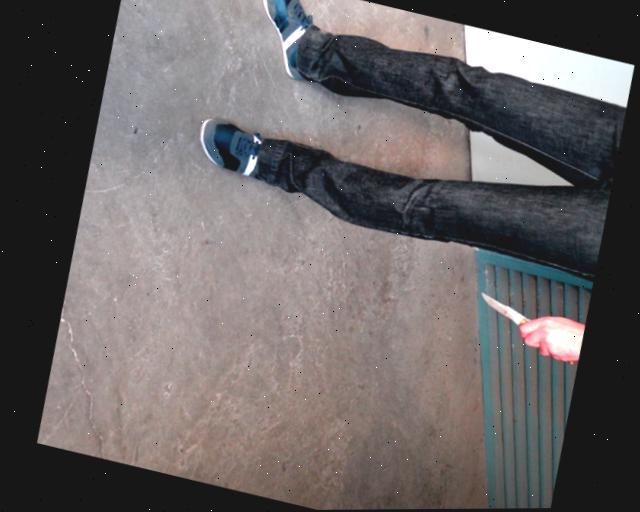pocket-knife: (451, 287, 584, 374)
